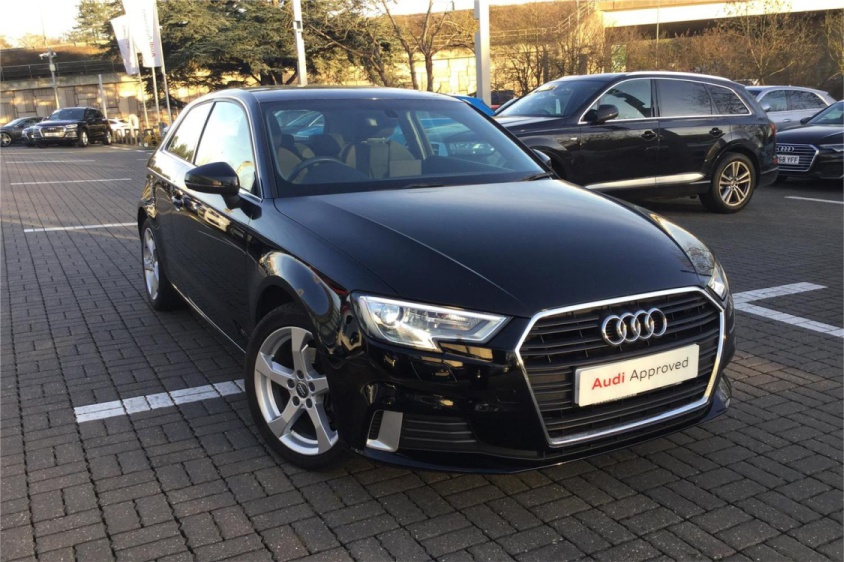audi: (593, 308, 675, 350)
